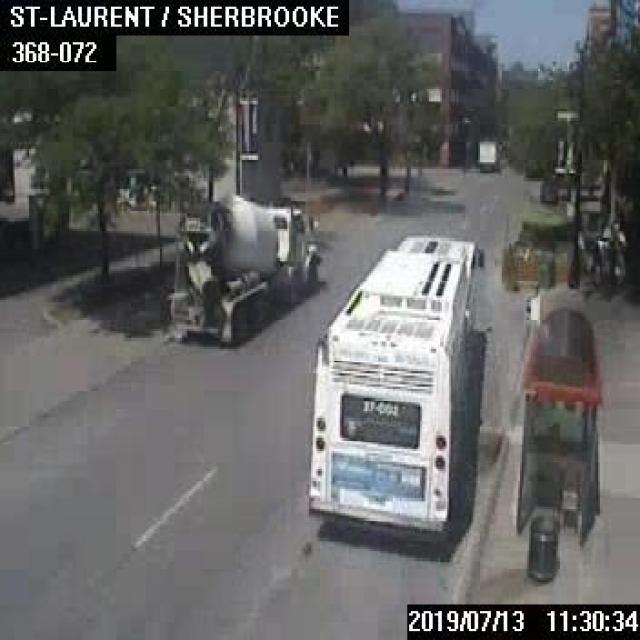bus: (304, 233, 475, 544)
vehicle: (162, 191, 320, 347), (609, 221, 625, 282), (476, 138, 496, 170)
